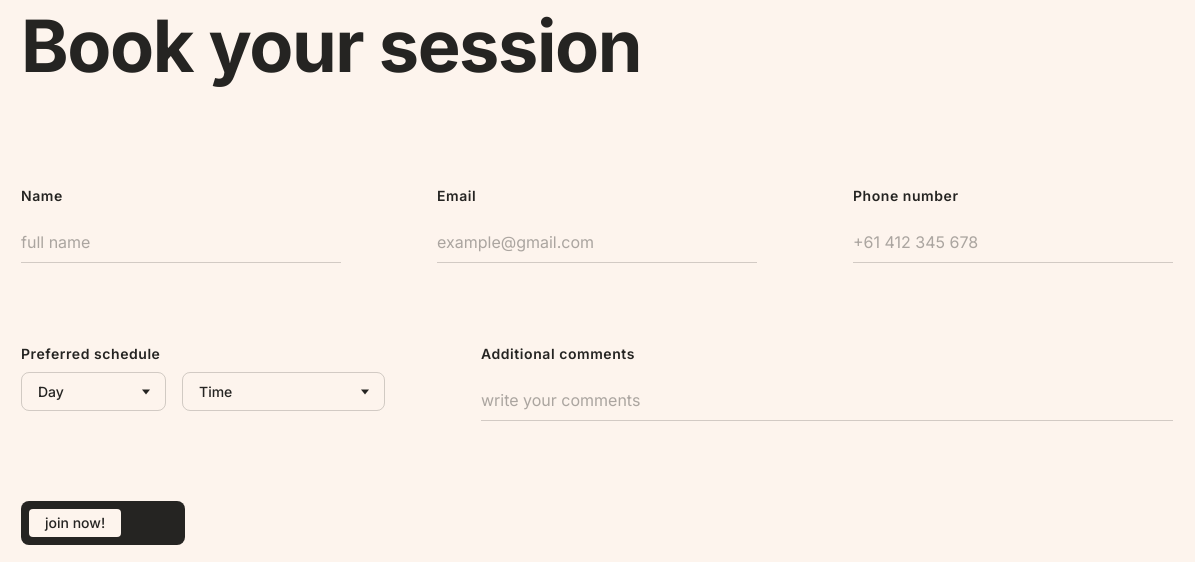
Test: BookingSection › replaces button with 'see you soon!' on success
Type "Jane Smith" into the field labelled "Name" at x=181, y=243, box [21,222,341,263]
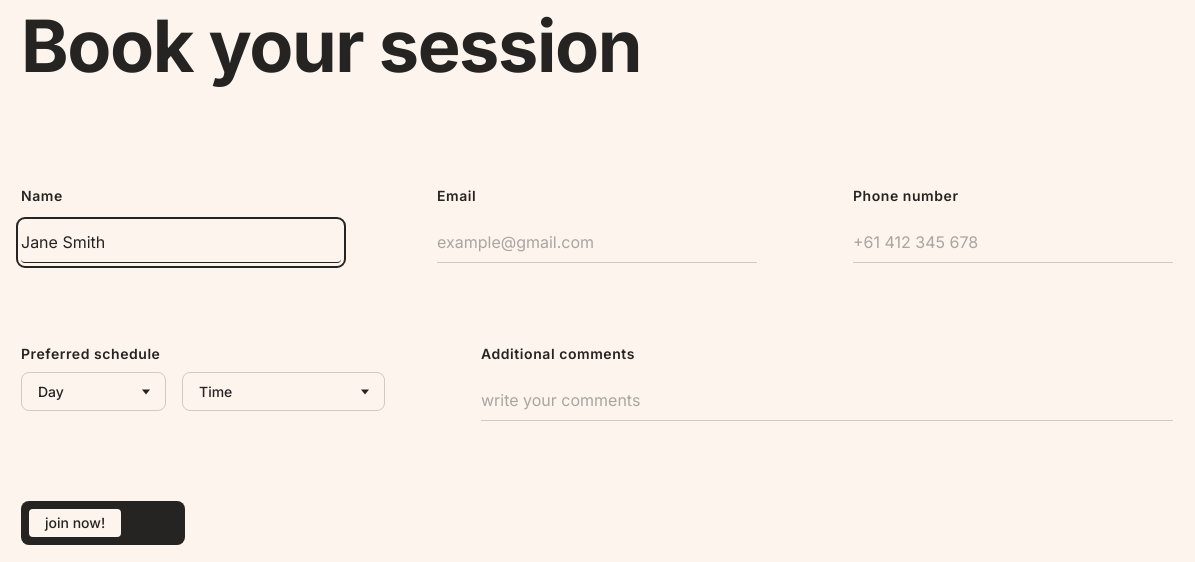
Type "jane@example.com" into the field labelled "Email" at x=597, y=243, box [437,222,757,263]
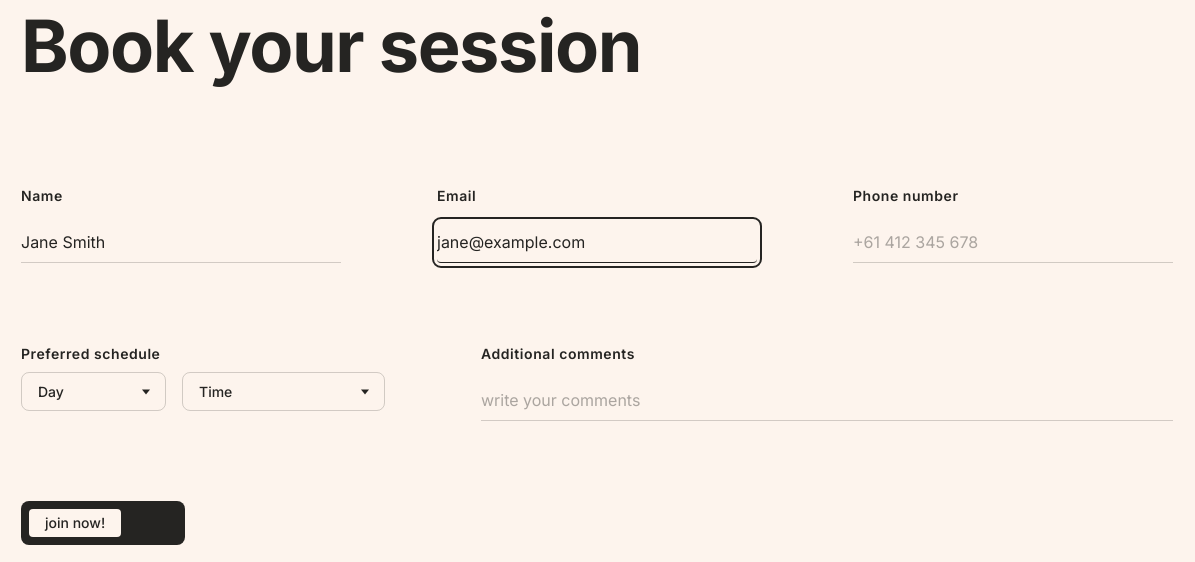
Type "0412345678" into the field labelled "Phone number" at x=1013, y=243, box [853,222,1173,263]
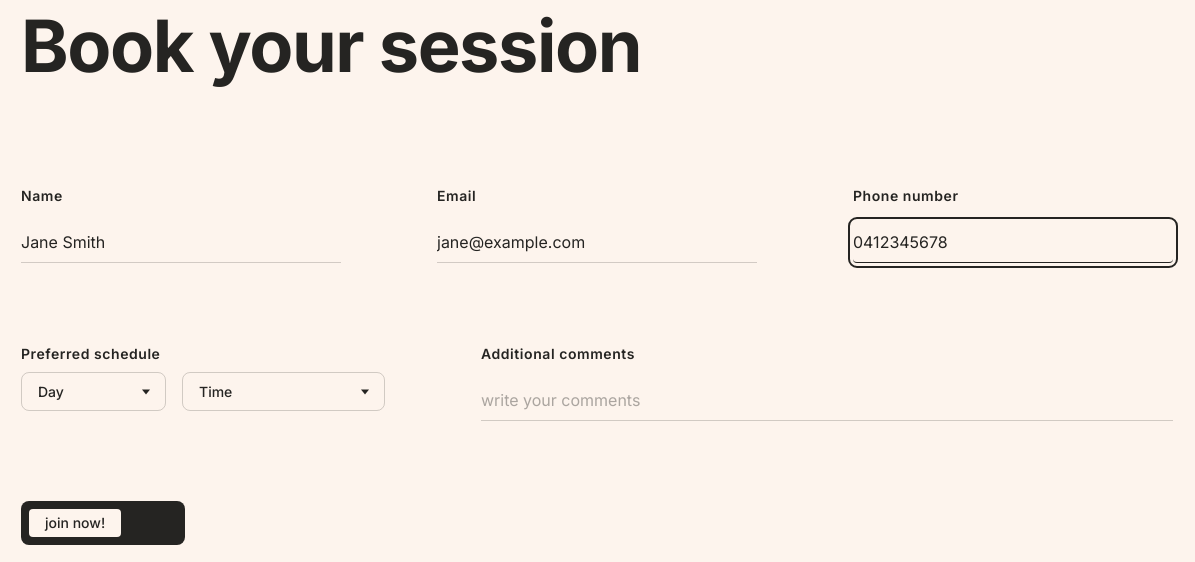
Select "Monday" in the dropdown named "day of the week" at x=94, y=392, box [21,372,166,411]
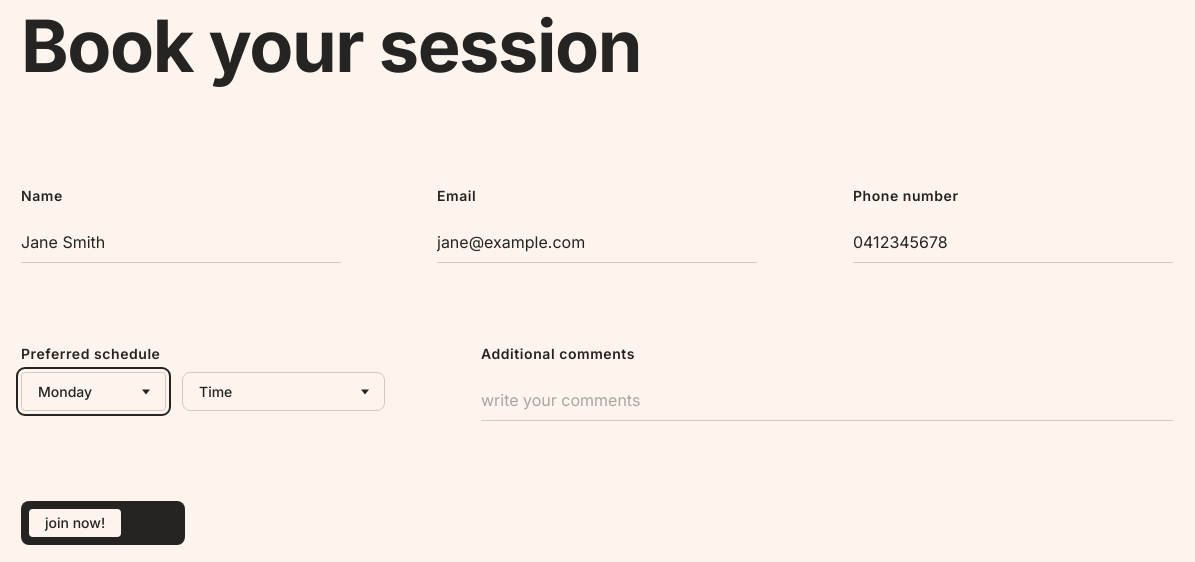
Select "10:00am – 12:00pm" in the dropdown named "preferred time slot" at x=284, y=392, box [182,372,385,411]
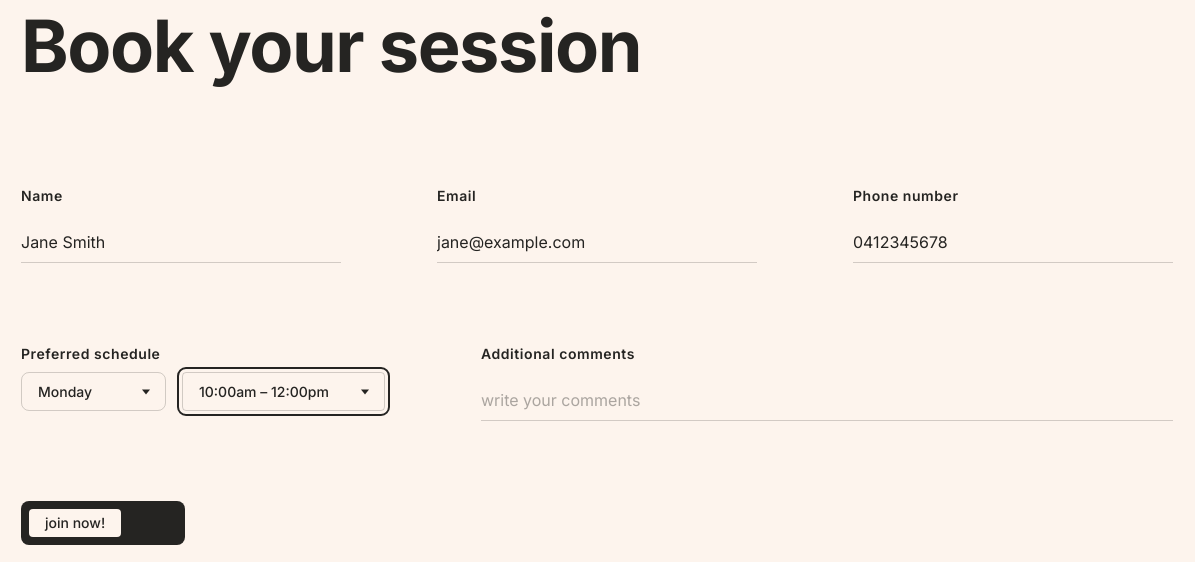
Click the button "join now!" at x=103, y=523, box [21,501,185,545]
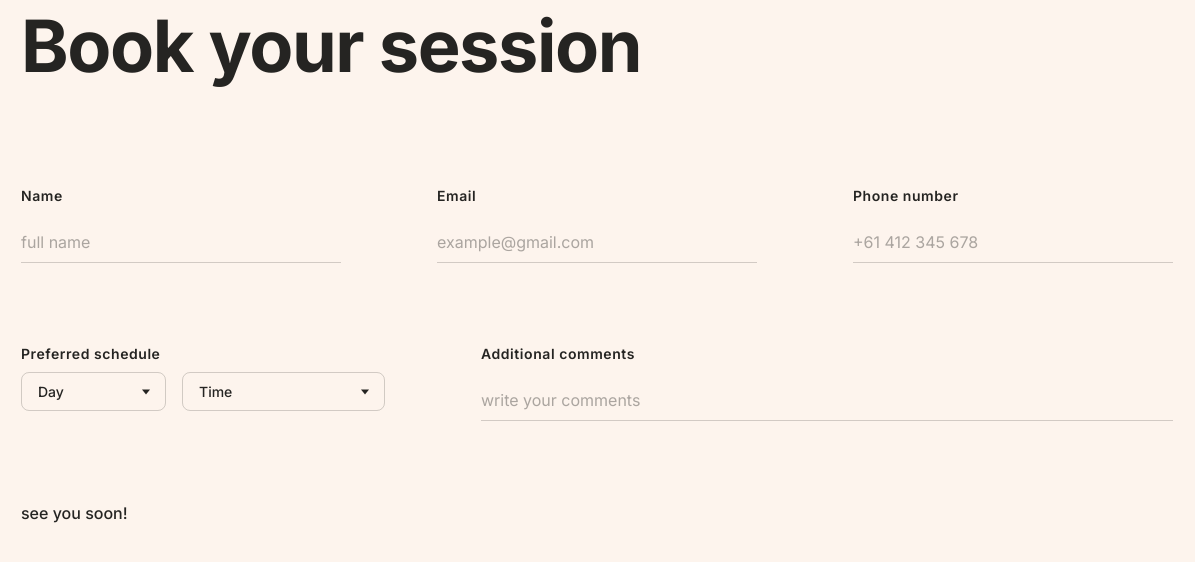
Expected: the message reads "see you soon!", [21,503,128,523]
Expected: the button "join now!" is gone
